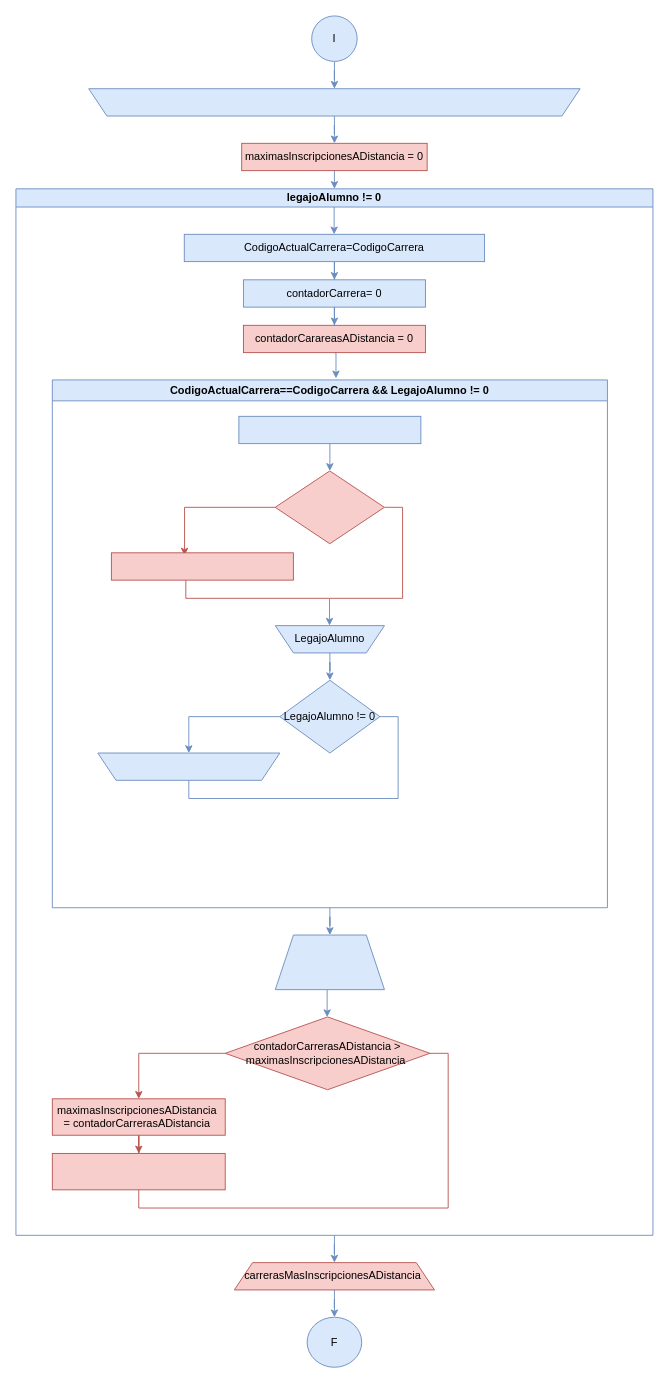
The diagram is 669 pixels wide and 1383 high, and some of its shapes have lost their labels. Here are the shapes that lost their labels. From the top down, the centre of each, then its label:
[334,102]: LegajoAlumno,CodigoCarrera,CodigoMateria,Modalidad,Horario
[329,429]: contadorCarrera ++
[329,507]: Modalidad == 'D'
[201,566]: contadorCarrerasADistancias++
[188,766]: CodigoCarrera,CodigoMateria, Modalidad,Horario
[329,962]: contadorCarrera
[138,1171]: carrerasMasInscripcionesADistancia = CodigoActualCarrera
